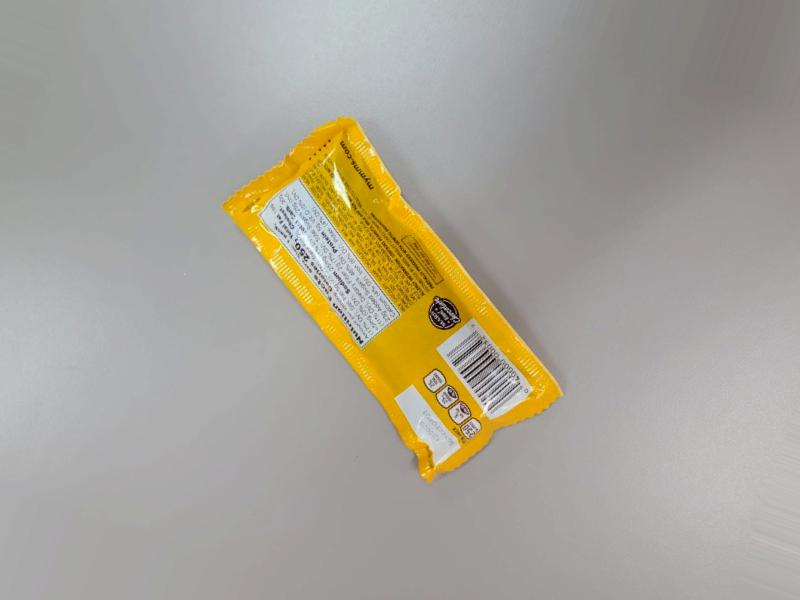m&m: (229, 95, 577, 522)
